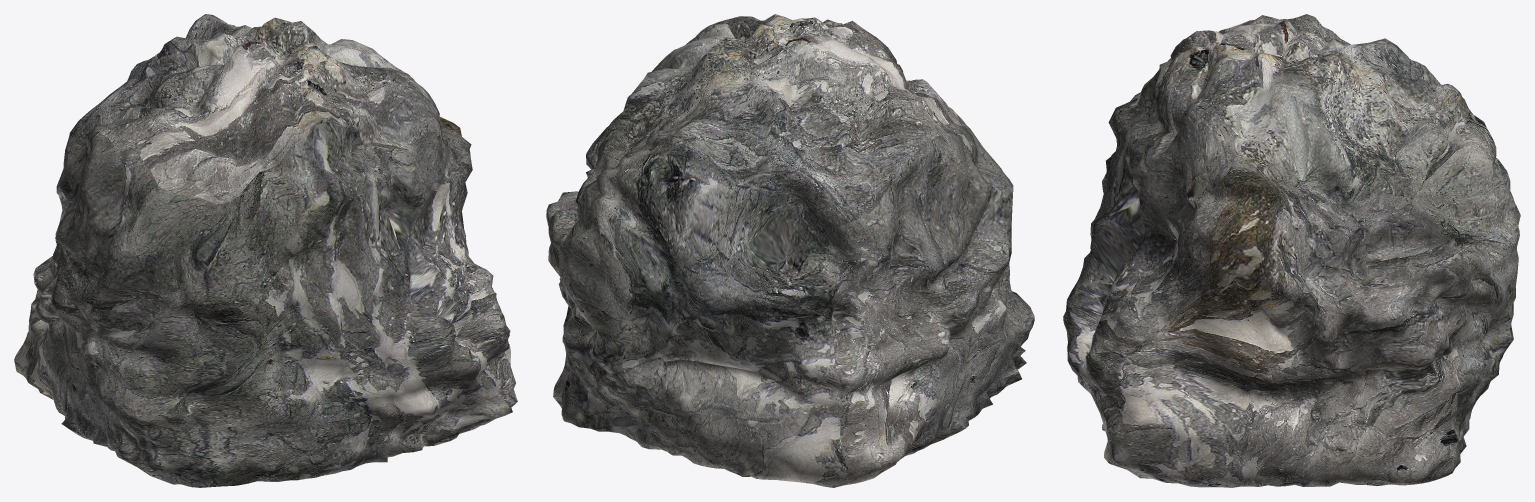
File: Piedra 1.glb
3 views of the same model, side by side, from view 1: azimuth 30°, elevation 25°; view 2: azimuth 150°, elevation 25°; view 3: azimuth 270°, elevation 25° (orthographic). The views are drawn at different scales.
Parts seen in each view (by area): view 1: Piedra 1; view 2: Piedra 1; view 3: Piedra 1.
Boxes of the visible parts, x1,y1,x2,y2 form: Piedra 1: [14, 14, 517, 487]; Piedra 1: [546, 14, 1034, 487]; Piedra 1: [1063, 14, 1520, 487].
Bounding box in the file's own units: 2.47 × 2.22 × 2.41.
1 material, 1 textured.
